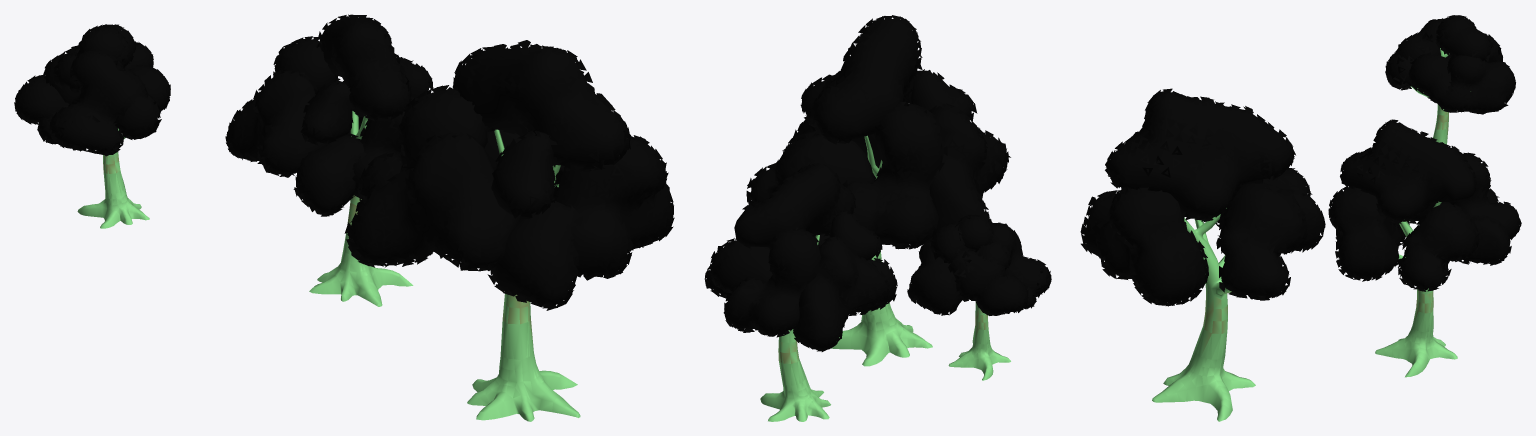
File: SM_ENV_LKNVLD_TreeSet_M.gltf
3 renders of one model, left to right at view 1: azimuth 30°, elevation 25°; view 2: azimuth 150°, elevation 25°; view 3: azimuth 270°, elevation 25°, orthographic. The views are drawn at different scales.
Visible parts, largest first — view 1: SM_ENV_LKNVLD_TreeSet_M; view 2: SM_ENV_LKNVLD_TreeSet_M; view 3: SM_ENV_LKNVLD_TreeSet_M.
Boxes of the visible parts, x1,y1,x2,y2 form: SM_ENV_LKNVLD_TreeSet_M: (14,14,674,421); SM_ENV_LKNVLD_TreeSet_M: (704,15,1051,421); SM_ENV_LKNVLD_TreeSet_M: (1080,15,1521,421).
Bounding box in the file's own units: 23.95 × 18.39 × 23.96.
